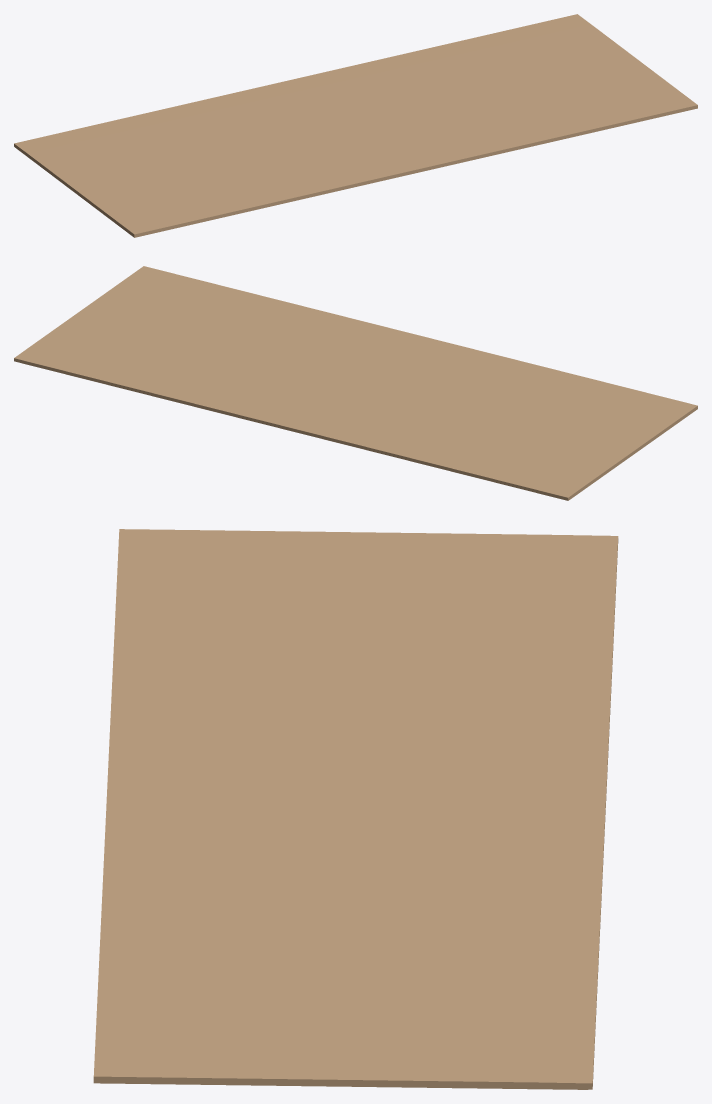
Rendered from zemin.fbx.
3 views of the same model, one above another, from view 1: azimuth 30°, elevation 25°; view 2: azimuth 150°, elevation 25°; view 3: azimuth 270°, elevation 25° (orthographic). The views are drawn at different scales.
Parts seen in each view (by area): view 1: Plane.002; view 2: Plane.002; view 3: Plane.002.
Part boxes in pixels (<box>): Plane.002: <box>14,14,697,237</box>; Plane.002: <box>14,266,697,500</box>; Plane.002: <box>93,529,618,1089</box>.
Size of the model in its own units: 2502 by 27.53 by 1012.
